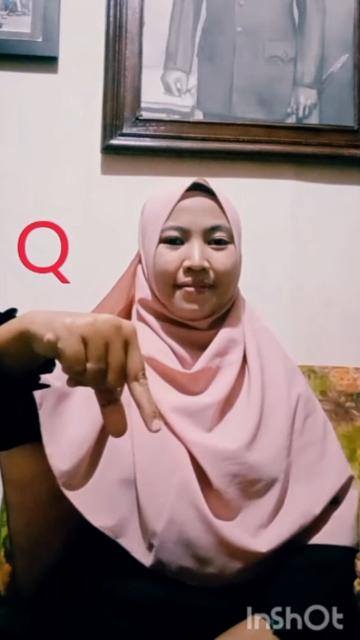Q: (25, 308, 171, 440)
